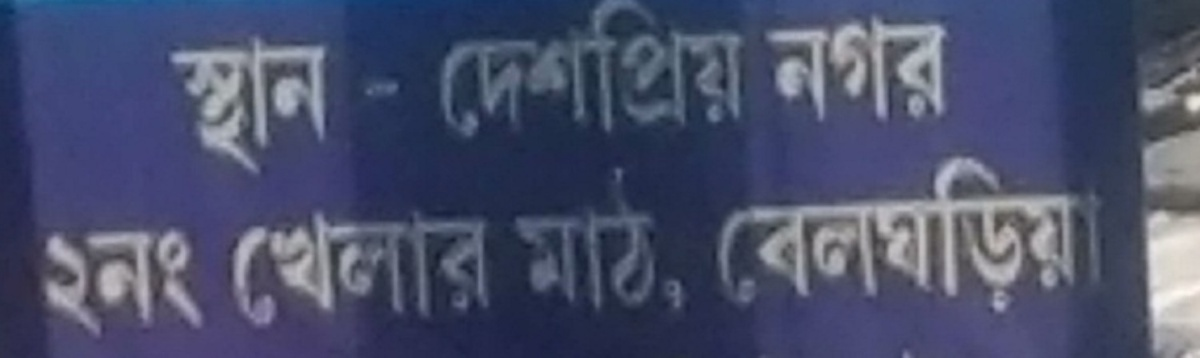text: (721, 147, 736, 322), (737, 147, 752, 322), (753, 147, 768, 322), (769, 147, 784, 322), (785, 147, 800, 322), (801, 147, 816, 322), (817, 147, 832, 322), (833, 147, 848, 322), (849, 147, 864, 322), (865, 147, 880, 322), (881, 147, 896, 322), (897, 147, 912, 322), (913, 147, 928, 322), (929, 147, 944, 322), (945, 147, 960, 322), (961, 147, 976, 322), (977, 147, 992, 322), (993, 147, 1008, 322), (1009, 147, 1024, 322), (1025, 147, 1040, 322), (1041, 147, 1056, 322), (1057, 147, 1072, 322), (1073, 147, 1088, 322), (1089, 147, 1104, 322), (513, 165, 528, 320), (529, 165, 544, 320), (545, 165, 560, 320), (561, 165, 576, 320), (577, 165, 592, 320), (593, 165, 608, 320), (609, 165, 624, 320), (625, 165, 640, 320), (641, 165, 656, 320), (657, 165, 672, 320), (673, 165, 688, 320), (161, 28, 176, 182), (177, 28, 192, 182), (193, 28, 208, 182), (209, 28, 224, 182), (225, 28, 240, 182), (241, 28, 256, 182), (257, 28, 272, 182), (273, 28, 288, 182), (289, 28, 304, 182), (305, 28, 320, 182), (321, 28, 336, 182), (708, 147, 720, 322), (449, 1, 464, 141), (465, 1, 480, 141), (481, 1, 496, 141), (497, 1, 512, 141), (513, 1, 528, 141), (529, 1, 544, 141), (545, 1, 560, 141), (561, 1, 576, 141), (577, 1, 592, 141), (593, 1, 608, 141), (609, 1, 624, 141), (625, 1, 640, 141), (641, 1, 656, 141), (657, 1, 672, 141), (673, 1, 688, 141), (689, 1, 704, 141), (705, 1, 720, 141), (721, 1, 736, 141), (241, 203, 256, 338), (257, 203, 272, 338), (273, 203, 288, 338), (289, 203, 304, 338), (305, 203, 320, 338), (321, 203, 336, 338), (337, 203, 352, 338), (353, 203, 368, 338), (369, 203, 384, 338), (385, 203, 400, 338), (401, 203, 416, 338), (417, 203, 432, 338), (433, 203, 448, 338), (449, 203, 464, 338), (465, 203, 480, 338), (1105, 147, 1116, 322), (769, 3, 784, 130), (785, 3, 800, 130), (801, 3, 816, 130), (817, 3, 832, 130), (833, 3, 848, 130), (849, 3, 864, 130), (865, 3, 880, 130), (881, 3, 896, 130), (897, 3, 912, 130), (913, 3, 928, 130), (929, 3, 944, 130), (193, 226, 209, 341), (481, 203, 494, 338), (49, 226, 64, 341), (65, 226, 80, 341), (81, 226, 96, 341), (97, 226, 112, 341), (113, 226, 128, 341), (129, 226, 144, 341), (145, 226, 160, 341), (161, 226, 176, 341), (177, 226, 192, 341), (436, 1, 448, 141), (737, 1, 748, 141), (37, 226, 48, 341), (337, 28, 345, 182), (232, 203, 240, 338), (506, 165, 512, 320), (945, 3, 952, 130), (762, 3, 768, 130), (369, 75, 384, 111), (385, 75, 400, 111), (401, 75, 413, 111), (357, 75, 368, 111), (689, 165, 691, 320)
